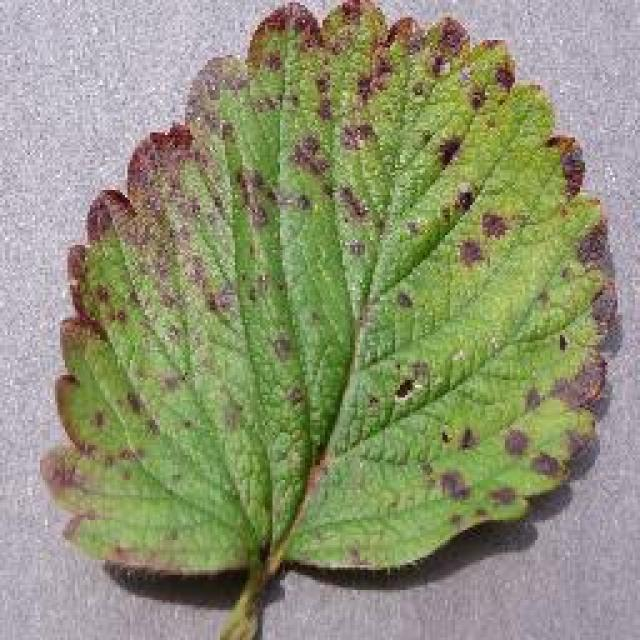Strawberry leaf scorch: (60, 97, 607, 493)
